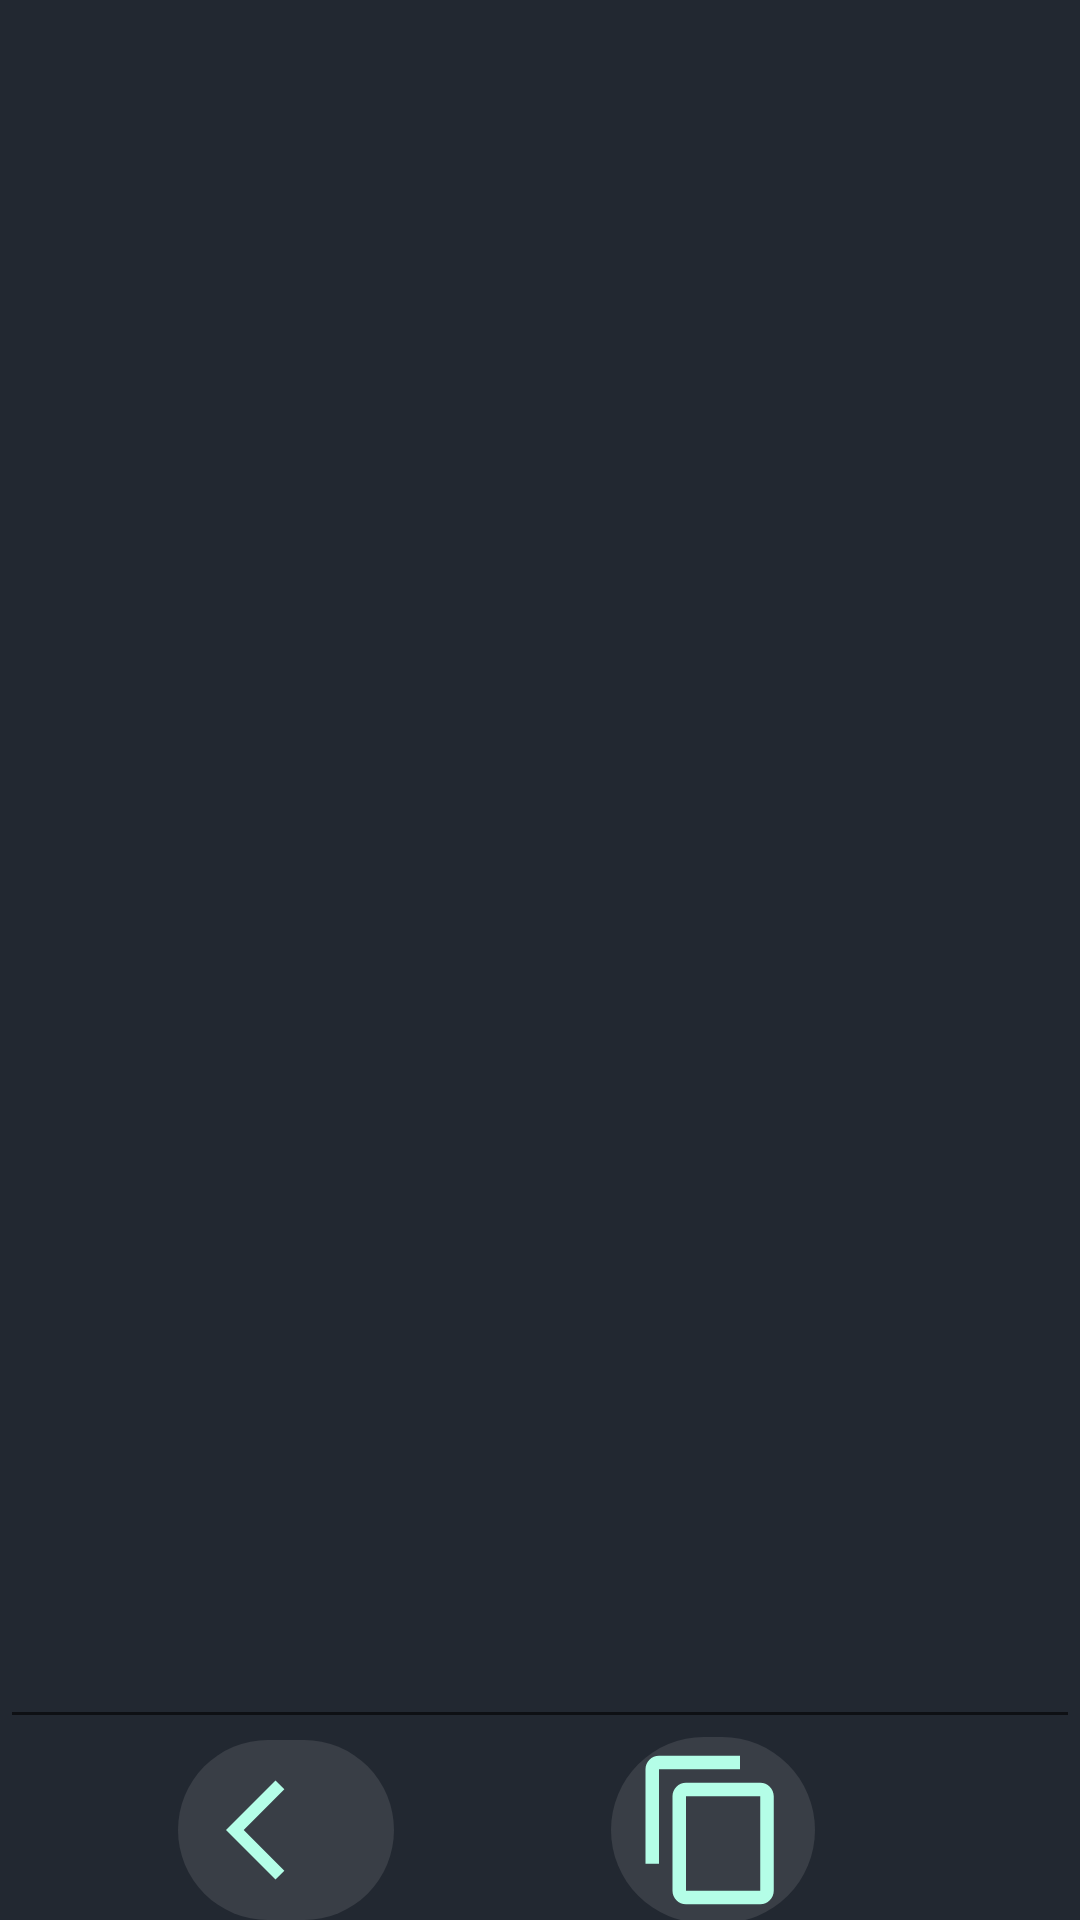

Where icons sit on this 1080px x 1920px app screen, as (x1, y1, x2, y2):
back: (178, 1740, 394, 1920)
